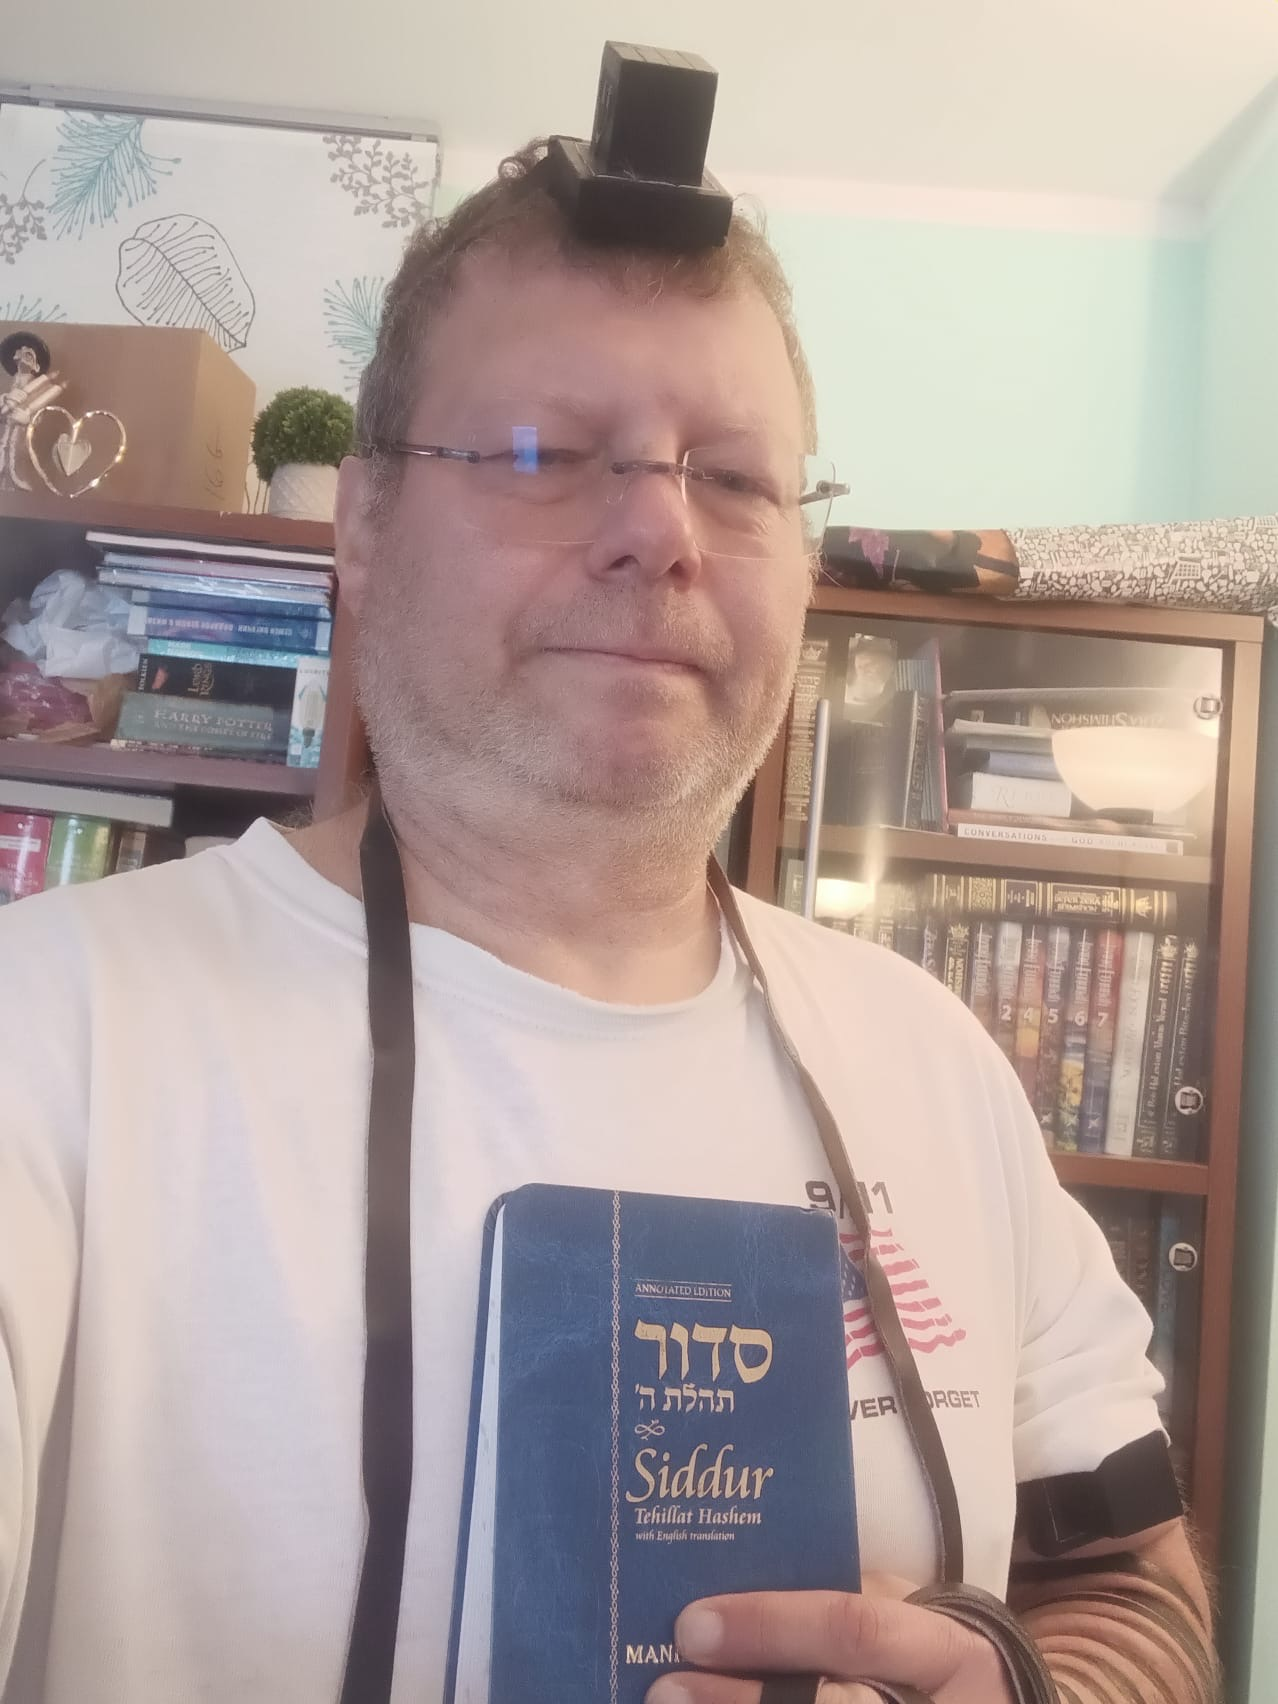tefillin: (546, 107, 737, 252)
